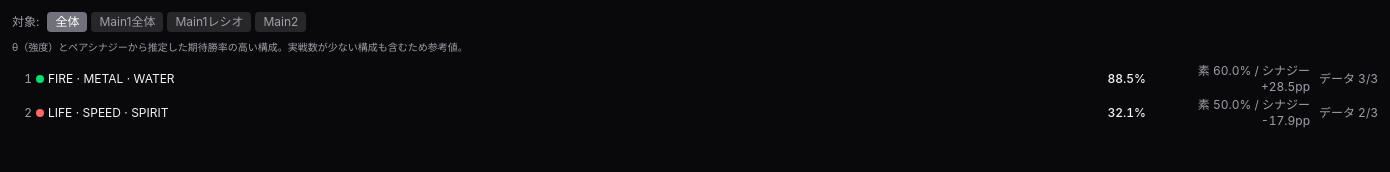
Scenario: TrioRecommend › hasMain2Protocols=true のとき Main2 タブが表示される
The width and height of the screenshot is (1390, 172).
Click the button "Main2".
click(281, 22)  # box [256,12,306,32]
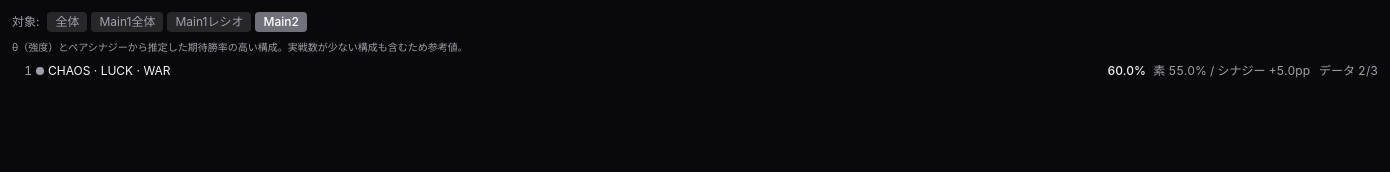
Result: the number of list items is 1 at [12,63,1378,79]
Result: the text "CHAOS · LUCK · WAR" is shown at [48,63,170,78]
